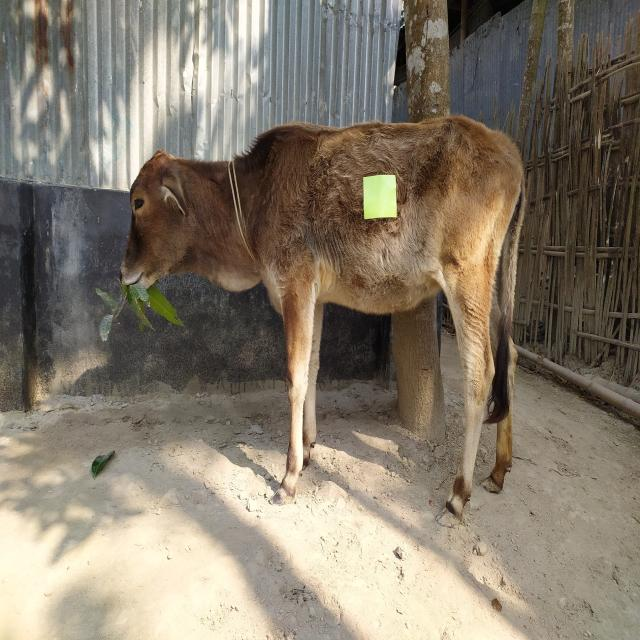badan_sapi: (264, 120, 522, 320)
sapi: (108, 102, 536, 532)
